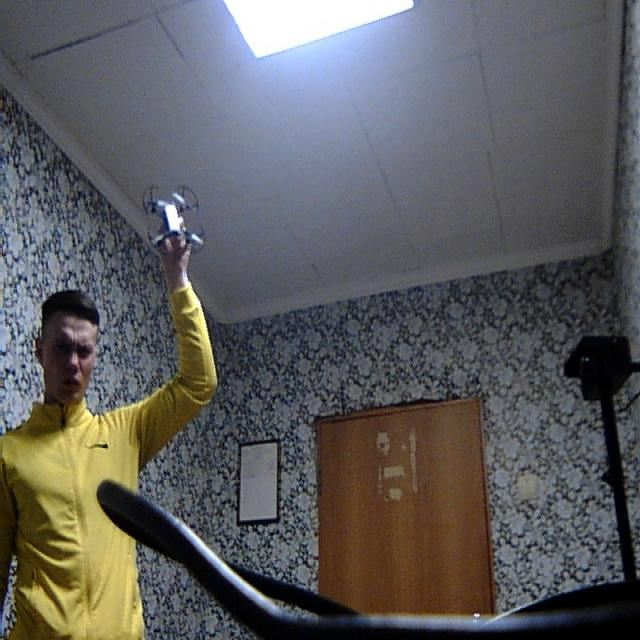drone: (140, 177, 211, 268)
